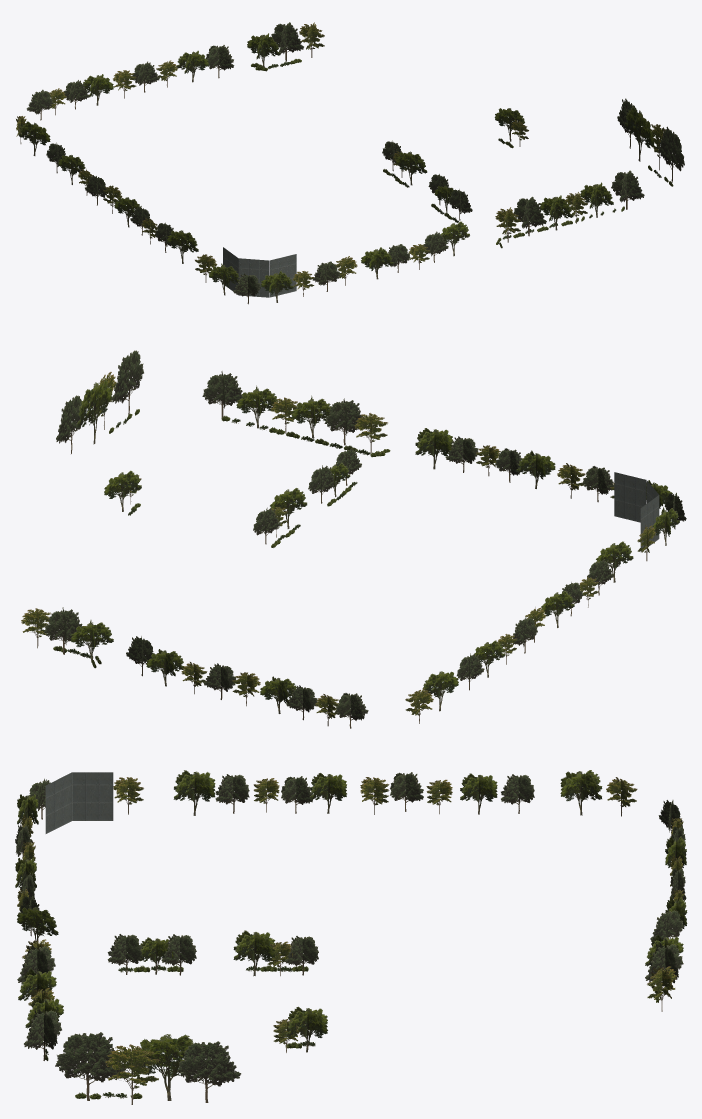
The model's file is st_011_tree.fbx.
3 views of the same model, one above another, from view 1: azimuth 30°, elevation 25°; view 2: azimuth 150°, elevation 25°; view 3: azimuth 270°, elevation 25° (orthographic). The views are drawn at different scales.
Visible parts, largest first — view 1: st_011_Tree; view 2: st_011_Tree; view 3: st_011_Tree.
Boxes of the visible parts, box(x1,y1,x2,y2) form: st_011_Tree: box(16, 22, 684, 304); st_011_Tree: box(21, 350, 686, 728); st_011_Tree: box(15, 770, 687, 1104).
Size of the model in its own units: 252 by 28.59 by 242.
